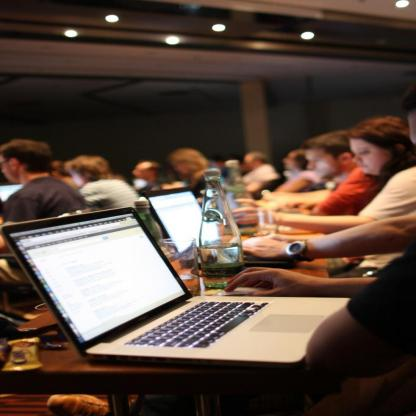board: (14, 202, 349, 374), (141, 186, 296, 269), (198, 171, 247, 289), (0, 181, 22, 204)
